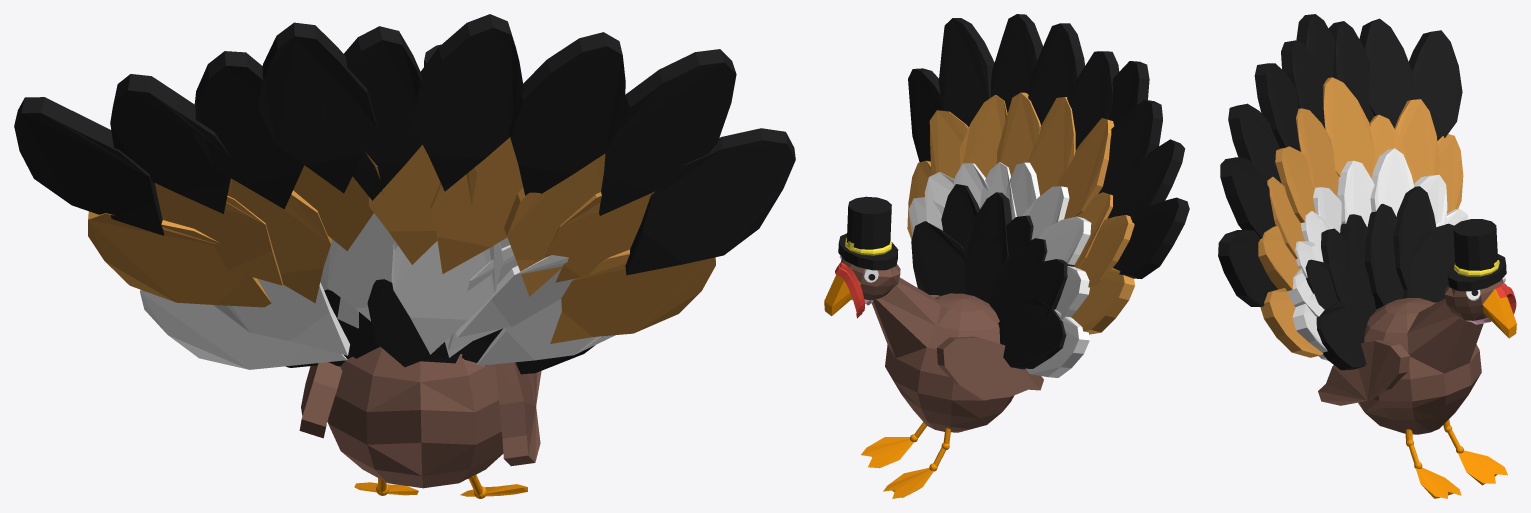
The model's file is Nancy Nibbles.fbx.
3 renders of one model, left to right at view 1: azimuth 30°, elevation 25°; view 2: azimuth 150°, elevation 25°; view 3: azimuth 270°, elevation 25°, orthographic. The views are drawn at different scales.
Visible parts, largest first — view 1: mesh_631104360, mesh_2054237934, mesh_846968407, mesh_1164372004, mesh_1521477836, mesh_927590991, mesh_549337289, mesh_2126762654, mesh_130984540, mesh_667269738, mesh_1996902268, mesh_215569630 (+18 smaller); view 2: mesh_631104360, mesh_1164372004, mesh_1047026696, mesh_1154837334, mesh_118330684, mesh_549337289, group_1258138193, mesh_927590991, mesh_130984540, mesh_108301936, mesh_667269738, mesh_846968407 (+29 smaller); view 3: mesh_631104360, mesh_549337289, mesh_130984540, mesh_1699439071, mesh_665653772, group_1258138193, mesh_1154837334, mesh_1164372004, mesh_2054237934, mesh_1672544702, mesh_118330684, mesh_927590991 (+27 smaller).
Boxes of the visible parts, left/top/right/bottom form: mesh_631104360: left=327, top=346, right=503, bottom=488; mesh_2054237934: left=625, top=128, right=795, bottom=275; mesh_846968407: left=509, top=32, right=625, bottom=195; mesh_1164372004: left=599, top=49, right=736, bottom=215; mesh_1521477836: left=258, top=22, right=376, bottom=193; mesh_927590991: left=413, top=14, right=524, bottom=191; mesh_549337289: left=14, top=97, right=164, bottom=235; mesh_2126762654: left=88, top=211, right=271, bottom=307; mesh_130984540: left=110, top=74, right=231, bottom=213; mesh_667269738: left=194, top=51, right=304, bottom=209; mesh_1996902268: left=550, top=249, right=715, bottom=343; mesh_215569630: left=322, top=26, right=422, bottom=200; mesh_631104360: left=871, top=277, right=1014, bottom=432; mesh_1164372004: left=938, top=18, right=994, bottom=127; mesh_1047026696: left=936, top=336, right=1043, bottom=399; mesh_1154837334: left=963, top=192, right=1011, bottom=303; mesh_118330684: left=998, top=298, right=1066, bottom=369; mesh_549337289: left=1113, top=197, right=1189, bottom=278; group_1258138193: left=838, top=196, right=898, bottom=270; mesh_927590991: left=1028, top=23, right=1085, bottom=125; mesh_130984540: left=1107, top=139, right=1185, bottom=222; mesh_108301936: left=911, top=221, right=967, bottom=295; mesh_667269738: left=1098, top=99, right=1162, bottom=195; mesh_846968407: left=991, top=14, right=1042, bottom=112; mesh_631104360: left=1358, top=298, right=1483, bottom=434; mesh_549337289: left=1409, top=30, right=1462, bottom=140; mesh_130984540: left=1359, top=18, right=1414, bottom=128; mesh_1699439071: left=1318, top=340, right=1410, bottom=405; mesh_665653772: left=1323, top=77, right=1375, bottom=178; group_1258138193: left=1447, top=219, right=1506, bottom=291; mesh_1154837334: left=1321, top=228, right=1376, bottom=331; mesh_1164372004: left=1220, top=157, right=1275, bottom=238; mesh_2054237934: left=1218, top=230, right=1277, bottom=306; mesh_1672544702: left=1364, top=204, right=1403, bottom=308; mesh_118330684: left=1403, top=223, right=1454, bottom=302; mesh_927590991: left=1254, top=63, right=1300, bottom=151.
Size of the model in its own units: 319 by 317 by 218.
